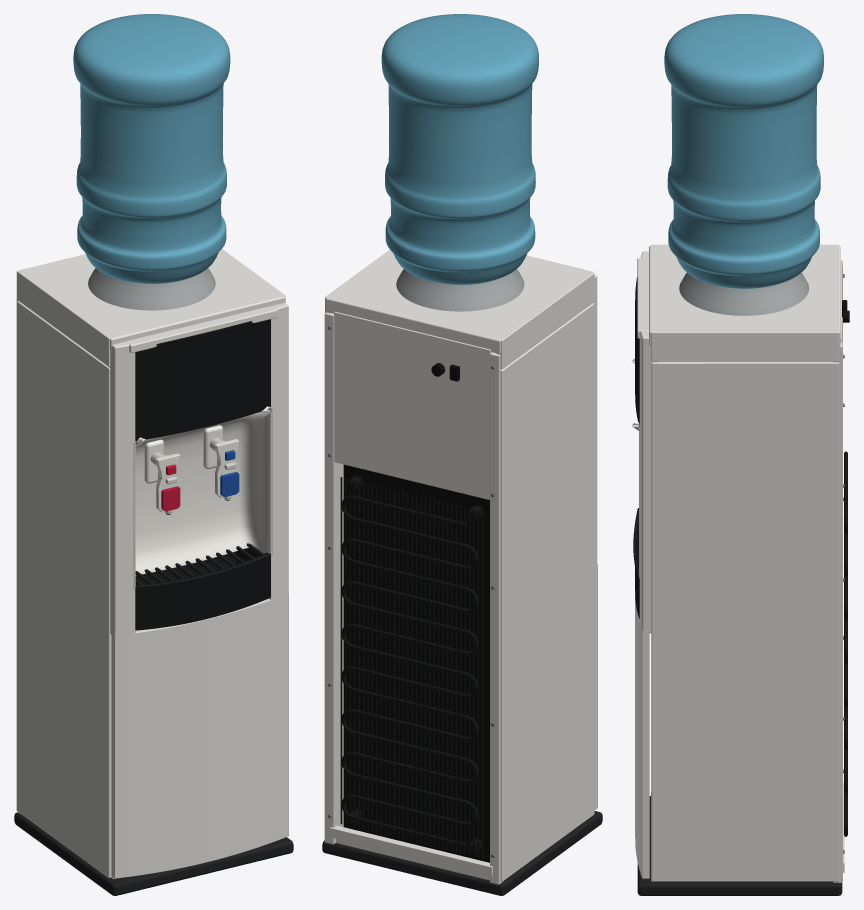
Rendered from dispenser_black_v1.glb.
3 renders of one model, left to right at view 1: azimuth 30°, elevation 25°; view 2: azimuth 150°, elevation 25°; view 3: azimuth 270°, elevation 25°, orthographic.
Visible parts, largest first — view 1: Right side panel__asset.001, Lower bowed cabinet cover__asset.001, Inverted water bottle, Molded dispensing bay__asset.001, Upper black fascia__asset.001, Cabinet top deck__asset.001, Right front shoulder__asset.001, Curved drip tray front__asset.001, Left front shoulder__asset.001, Dark plinth__asset.001, Bottle receiving collar__asset.001, Right top side cap__asset.001 (+6 smaller); view 2: Right side panel__asset.001, Inverted water bottle, Rear inner shield__asset.001, Rear upper service panel__asset.001, Condenser cooling tube__asset.001, Cabinet top deck__asset.001, Left rear frame rail__asset.001, Right rear frame rail__asset.001, Dark plinth__asset.001, Bottle receiving collar__asset.001, Right top side cap__asset.001, Rear bottom cross rail__asset.001 (+35 smaller); view 3: Left side panel__asset.001, Inverted water bottle, Cabinet top deck__asset.001, Left top side cap__asset.001, Left front shoulder__asset.001, Lower bowed cabinet cover__asset.001, Bottle receiving collar__asset.001, Dark plinth__asset.001, Left rear frame rail__asset.001, Condenser cooling tube__asset.001, Fascia upper trim__asset.001, Upper black fascia__asset.001.
Part boxes in pixels (left/top/right/bottom): Right side panel__asset.001: left=17, top=301, right=112, bottom=877; Lower bowed cabinet cover__asset.001: left=111, top=593, right=288, bottom=878; Inverted water bottle: left=73, top=14, right=230, bottom=283; Molded dispensing bay__asset.001: left=133, top=406, right=272, bottom=589; Upper black fascia__asset.001: left=135, top=319, right=270, bottom=440; Cabinet top deck__asset.001: left=19, top=252, right=285, bottom=351; Right front shoulder__asset.001: left=109, top=341, right=135, bottom=636; Curved drip tray front__asset.001: left=135, top=552, right=270, bottom=630; Left front shoulder__asset.001: left=262, top=303, right=288, bottom=599; Dark plinth__asset.001: left=14, top=812, right=293, bottom=895; Bottle receiving collar__asset.001: left=88, top=268, right=215, bottom=310; Right top side cap__asset.001: left=16, top=270, right=113, bottom=366; Right side panel__asset.001: left=500, top=303, right=594, bottom=881; Inverted water bottle: left=381, top=14, right=538, bottom=284; Rear inner shield__asset.001: left=343, top=464, right=489, bottom=862; Rear upper service panel__asset.001: left=334, top=311, right=491, bottom=499; Condenser cooling tube__asset.001: left=341, top=495, right=478, bottom=846; Cabinet top deck__asset.001: left=325, top=252, right=594, bottom=353; Left rear frame rail__asset.001: left=324, top=312, right=338, bottom=844; Right rear frame rail__asset.001: left=490, top=352, right=503, bottom=884; Dark plinth__asset.001: left=322, top=811, right=602, bottom=895; Bottle receiving collar__asset.001: left=396, top=269, right=524, bottom=311; Right top side cap__asset.001: left=496, top=271, right=594, bottom=368; Rear bottom cross rail__asset.001: left=329, top=825, right=492, bottom=876; Left side panel__asset.001: left=651, top=361, right=839, bottom=881; Inverted water bottle: left=664, top=14, right=823, bottom=288; Cabinet top deck__asset.001: left=649, top=245, right=840, bottom=345; Left top side cap__asset.001: left=651, top=329, right=839, bottom=361; Left front shoulder__asset.001: left=639, top=331, right=658, bottom=633; Lower bowed cabinet cover__asset.001: left=635, top=591, right=649, bottom=878; Bottle receiving collar__asset.001: left=679, top=272, right=808, bottom=315; Dark plinth__asset.001: left=637, top=796, right=842, bottom=895; Left rear frame rail__asset.001: left=833, top=342, right=842, bottom=882; Condenser cooling tube__asset.001: left=844, top=451, right=847, bottom=836; Fascia upper trim__asset.001: left=637, top=258, right=648, bottom=338; Upper black fascia__asset.001: left=635, top=277, right=639, bottom=426.
Size of the model in its own units: 0.348 by 1.47 by 0.3562.
